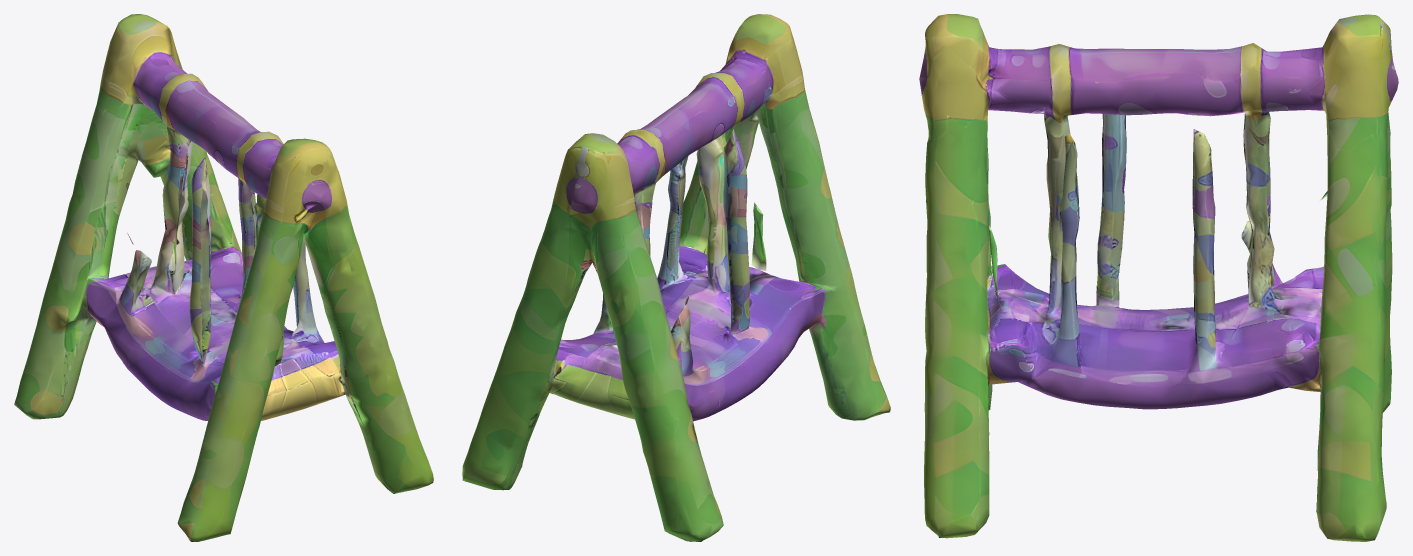
Rendered from swing.fbx.
3 views of the same model, side by side, from view 1: azimuth 30°, elevation 25°; view 2: azimuth 150°, elevation 25°; view 3: azimuth 270°, elevation 25° (orthographic). The views are drawn at different scales.
Visible parts, largest first — view 1: Mesh_0; view 2: Mesh_0; view 3: Mesh_0.
Part boxes in pixels (bbox=[...]): Mesh_0: bbox=[14, 14, 433, 541]; Mesh_0: bbox=[462, 14, 890, 541]; Mesh_0: bbox=[919, 14, 1398, 541].
Bounding box in the file's own units: 85.91 × 120 × 114.
1 material, 1 textured.
